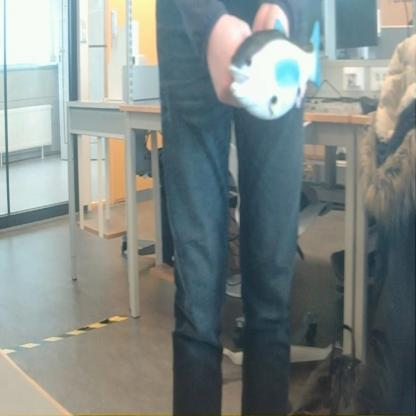rubberfish: (225, 13, 328, 126)
